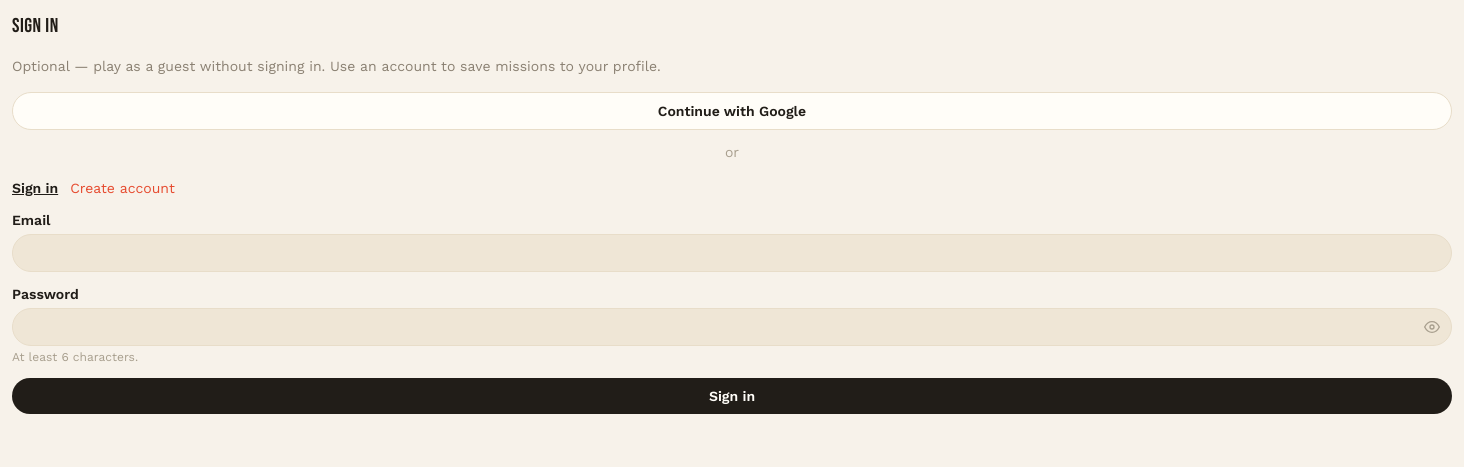
Test: AuthForm › surfaces Google sign-in errors
The width and height of the screenshot is (1464, 467).
Click the button "Continue with Google" at (732, 111), box [12,92,1452,130]
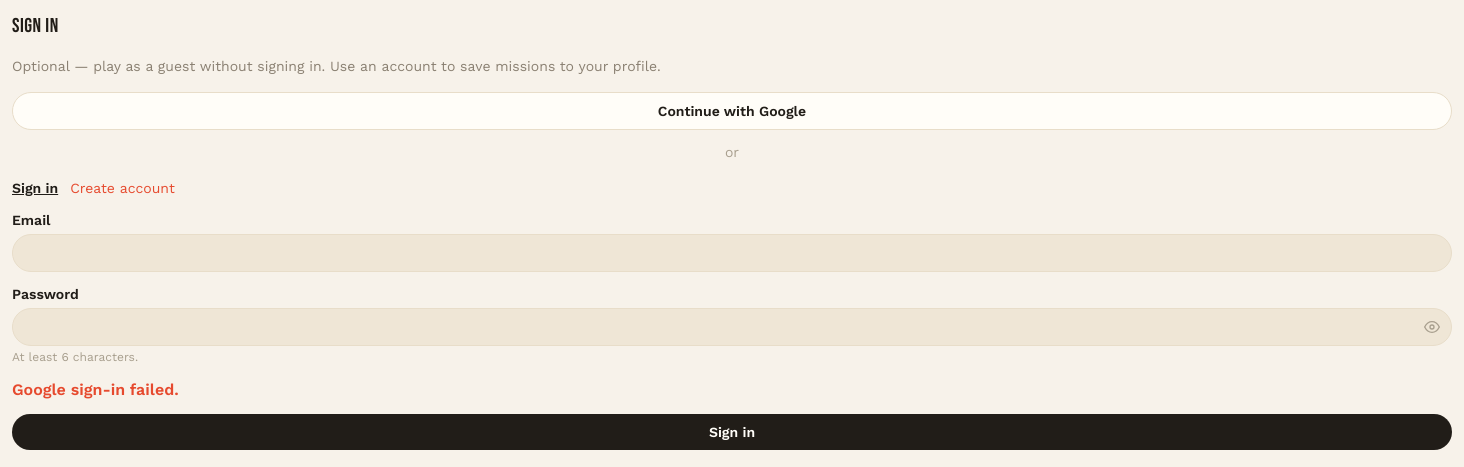
expect the text "Google sign-in failed." is shown: met, box [12,380,179,399]
